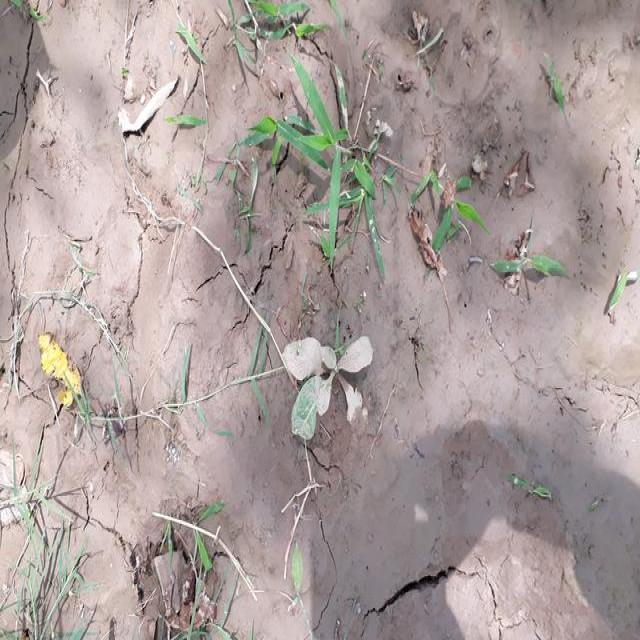crop: (285, 327, 380, 439)
